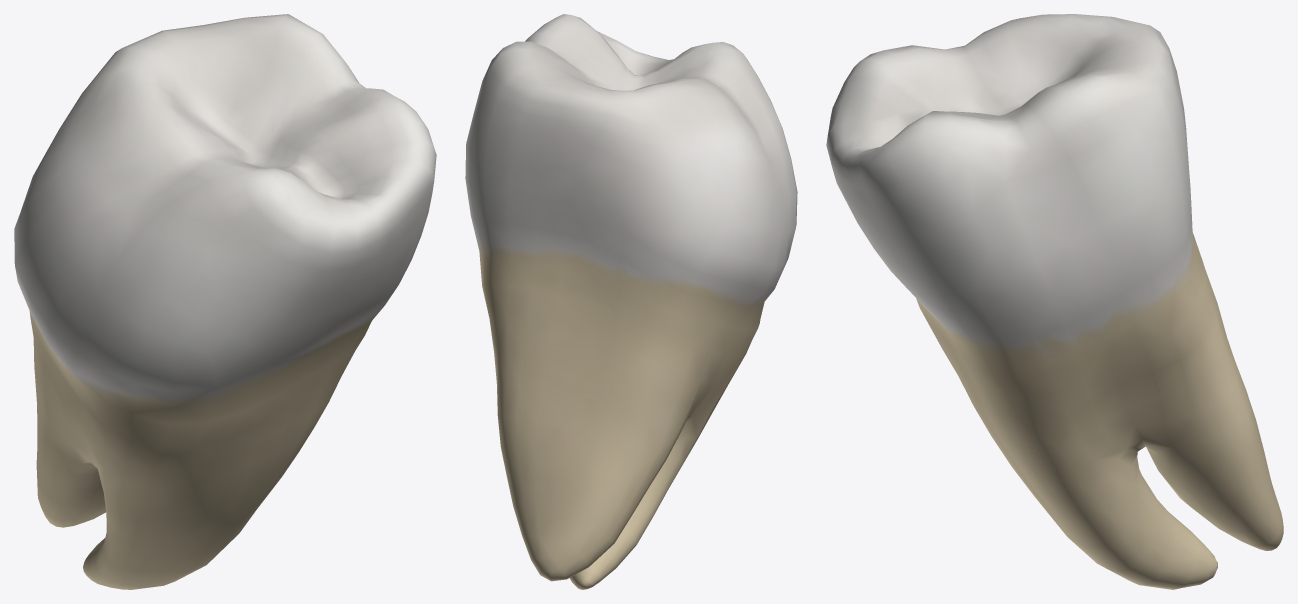
Rendered from tooth-48.glb.
The picture shows the model from 3 angles, left to right: view 1: azimuth 30°, elevation 25°; view 2: azimuth 150°, elevation 25°; view 3: azimuth 270°, elevation 25°; orthographic projection. The views are drawn at different scales.
Parts seen in each view (by area): view 1: ZBrushPolyMesh3D_Mandible_ll8_0; view 2: ZBrushPolyMesh3D_Mandible_ll8_0; view 3: ZBrushPolyMesh3D_Mandible_ll8_0.
Part boxes in pixels (left/top/right/bottom): ZBrushPolyMesh3D_Mandible_ll8_0: left=14, top=14, right=436, bottom=589; ZBrushPolyMesh3D_Mandible_ll8_0: left=465, top=14, right=797, bottom=589; ZBrushPolyMesh3D_Mandible_ll8_0: left=826, top=14, right=1283, bottom=589.
Bounding box in the file's own units: 0.3466 × 0.5457 × 0.3981.
1 material, 1 textured.
